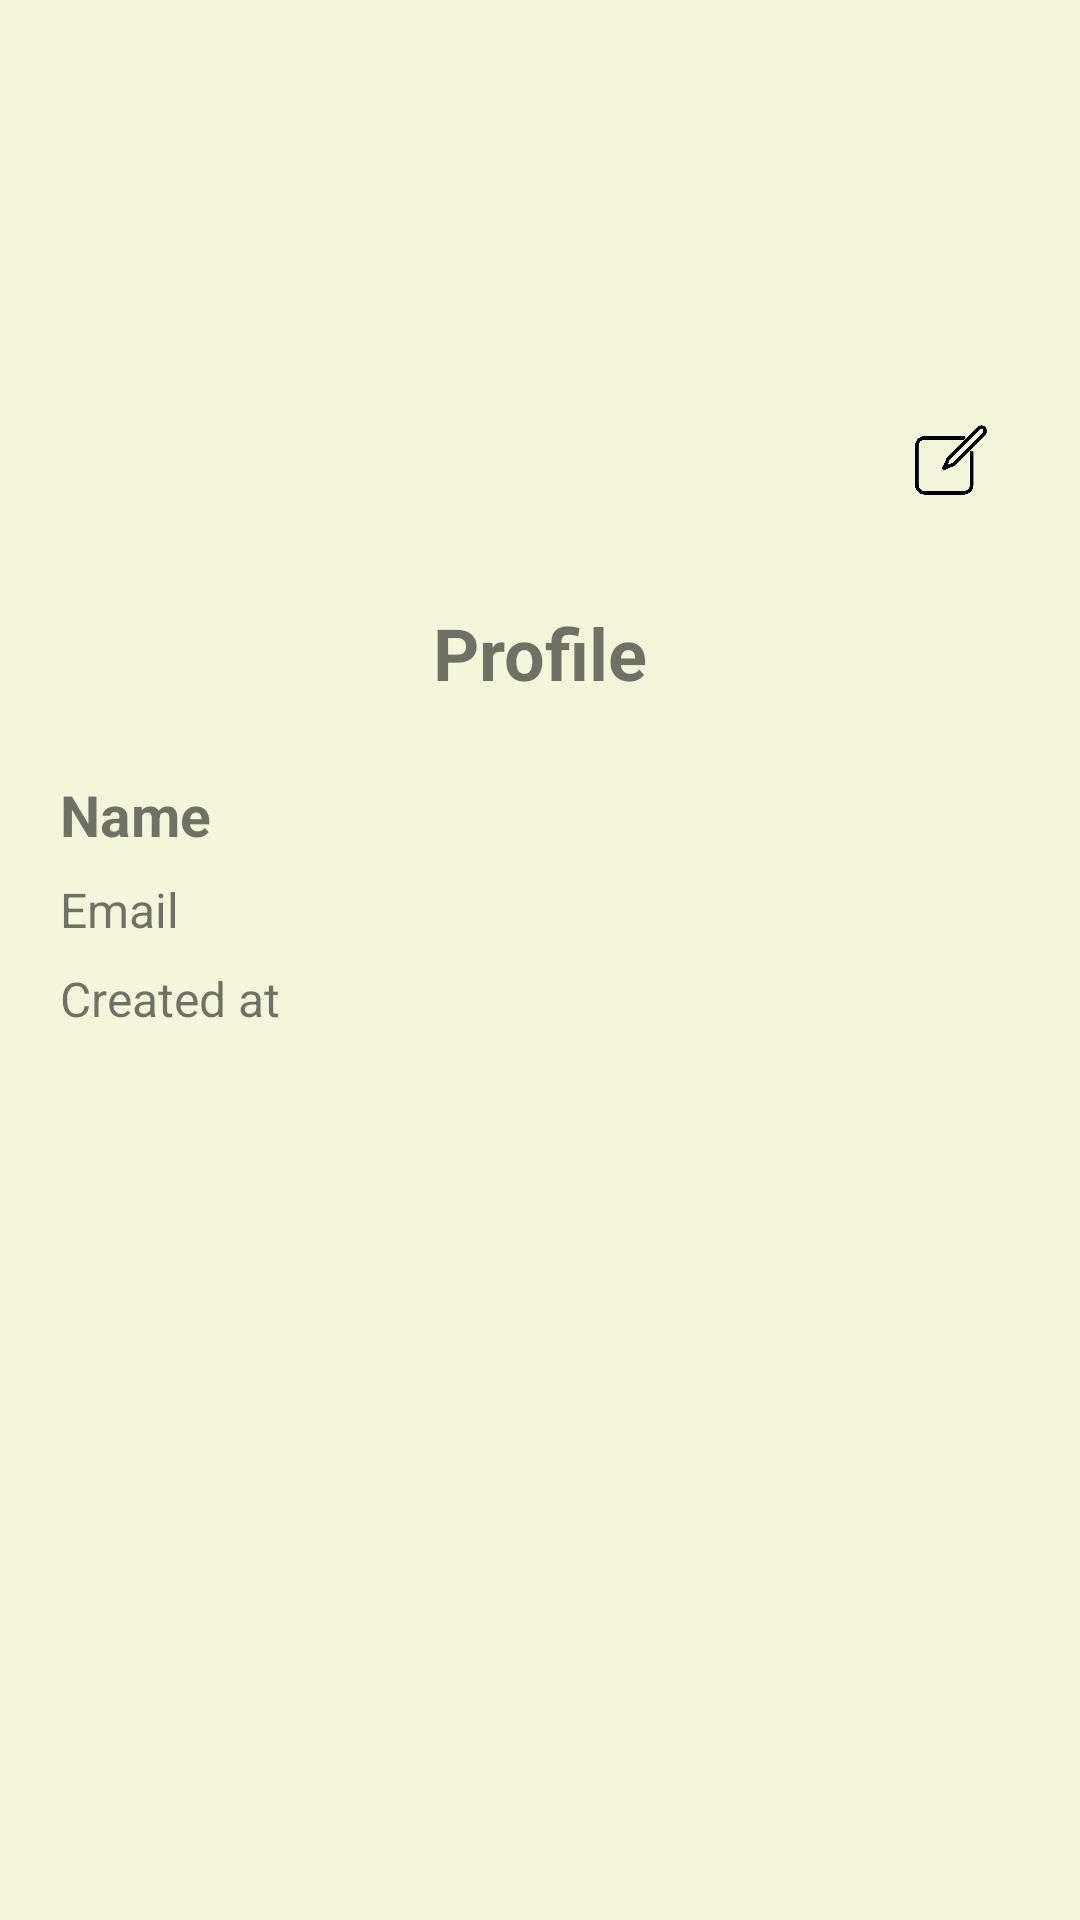

Locate icon controls on the screen. Image size 1080 x 1920, boxes as BBox(x1, y1, x2, y2).
edit: BBox(915, 425, 987, 495)
